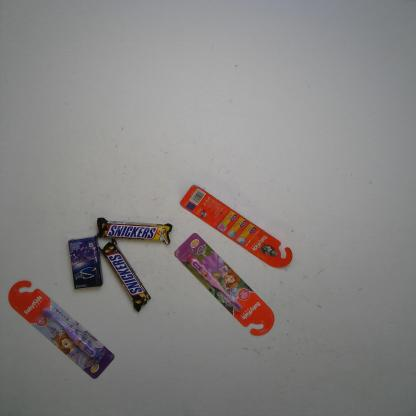Chocolate: (99, 238, 150, 312), (95, 217, 172, 245)
Gum: (67, 235, 104, 290)
Personal Hygiene: (8, 280, 115, 379), (174, 232, 274, 336), (181, 184, 292, 268)
